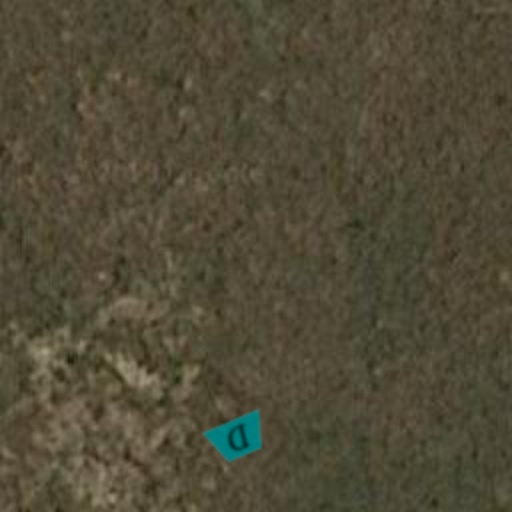trapezoid: (196, 396, 280, 480)
